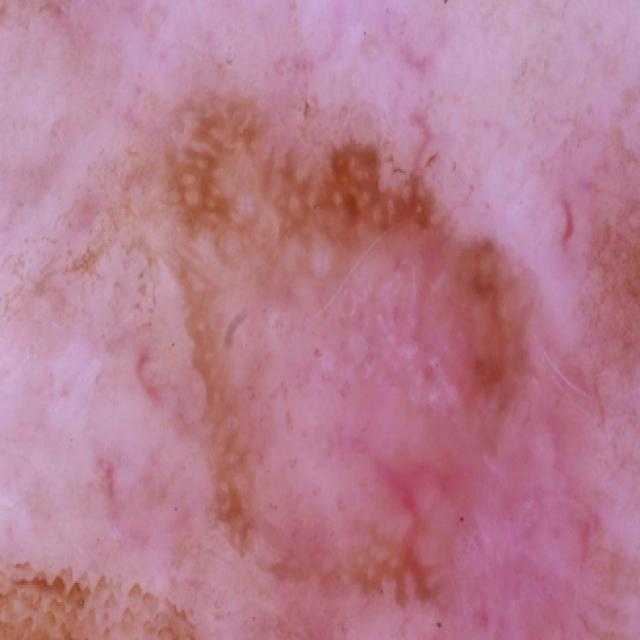Carcinoma: (117, 97, 587, 572), (0, 554, 197, 640)
